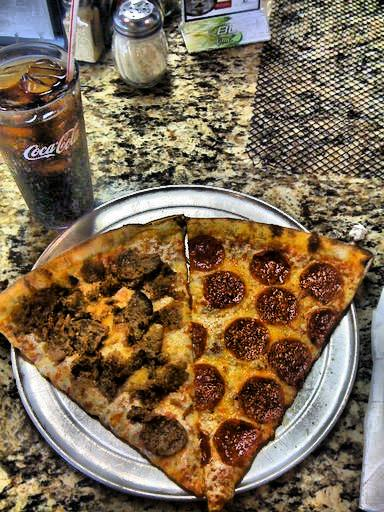pizza: (2, 240, 384, 485)
